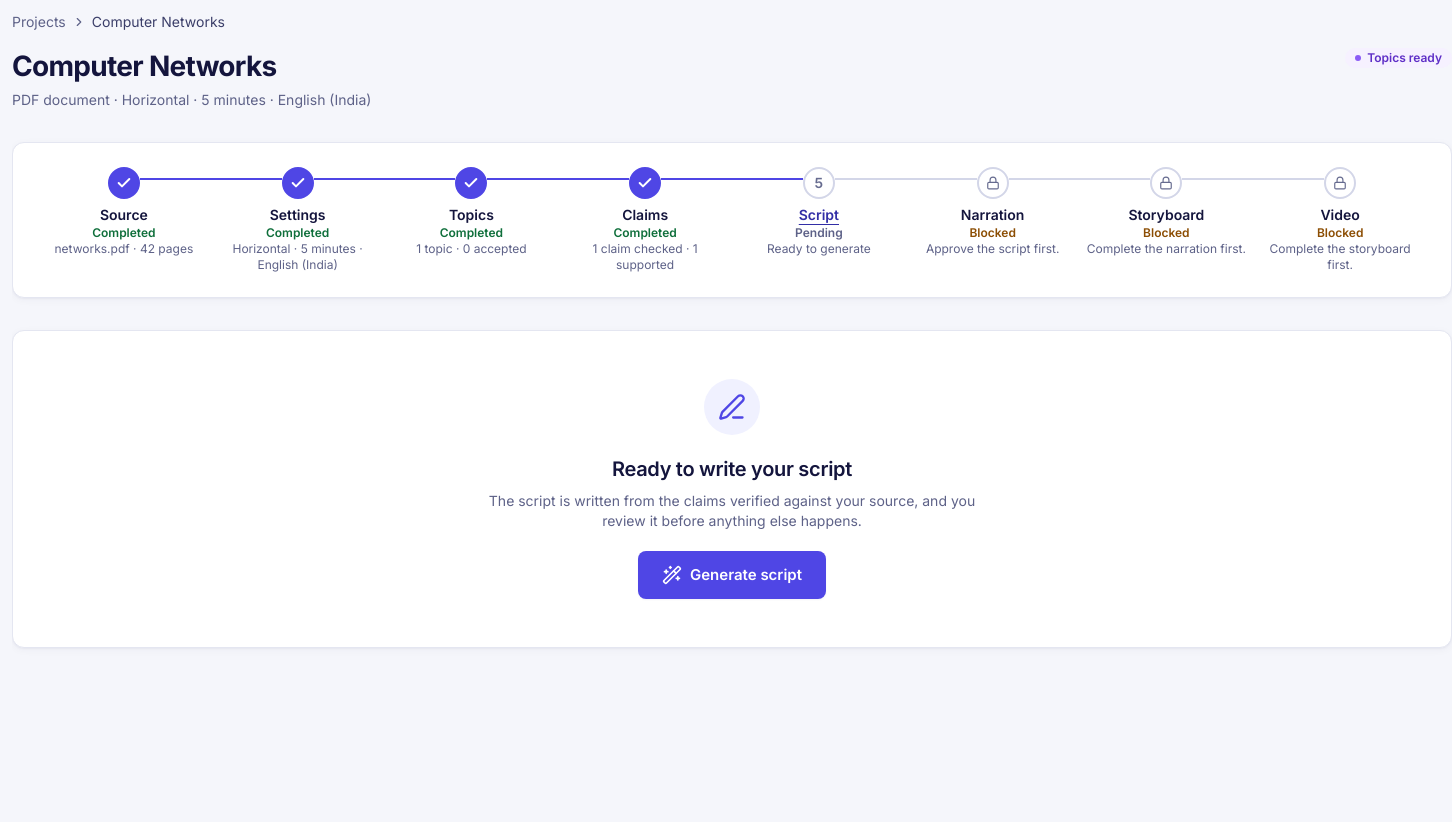
Scenario: Script step › names the topics that have no verified claim, even when the sentence is too long to show
This screenshot has width=1452, height=822.
Click the button "Generate script" at [732, 575], box [638,551,826,599]
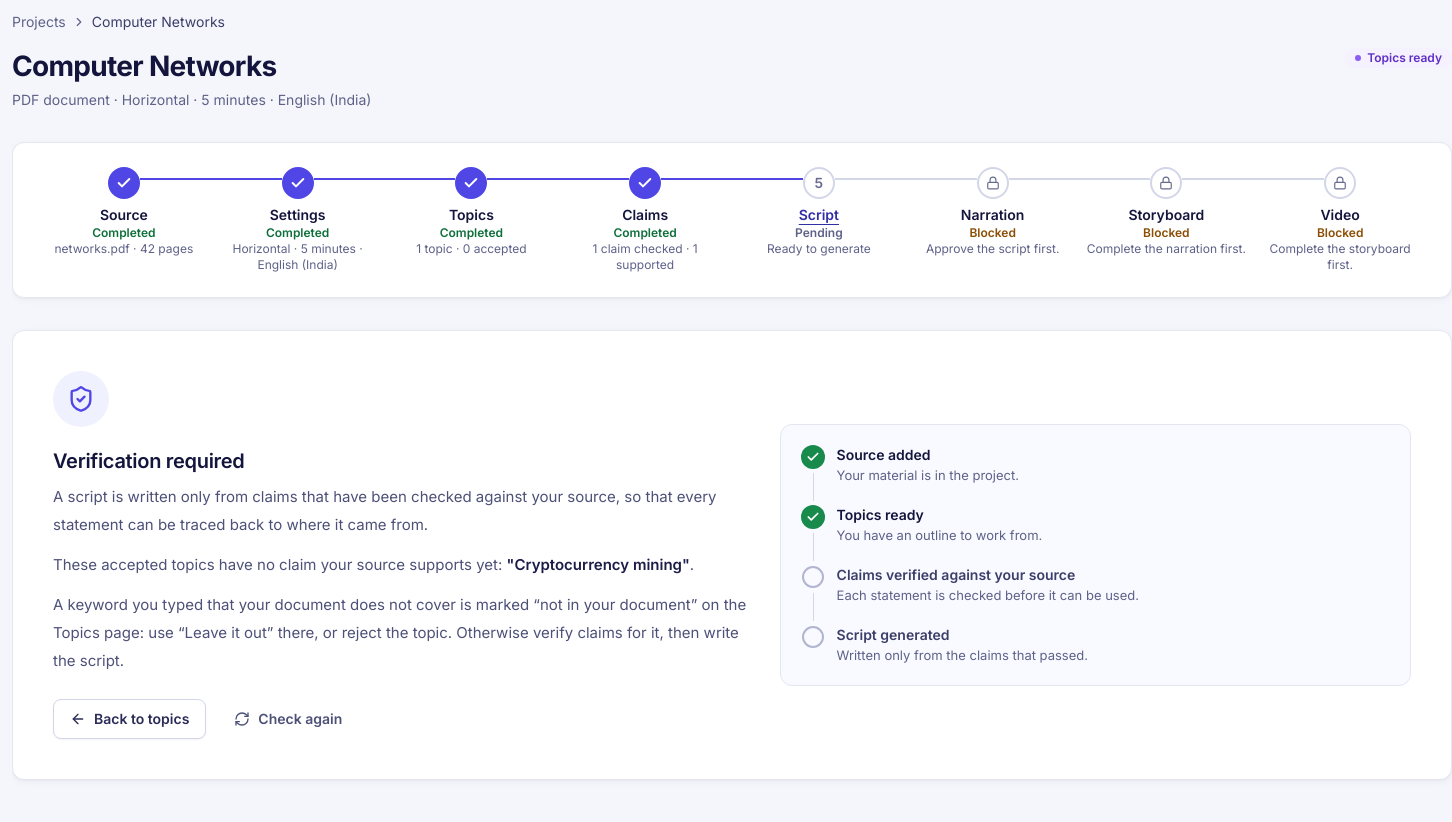
expect the heading "Verification required" is shown: met, box [53,449,244,473]
expect the text "\"Cryptocurrency mining\"" is shown: met, box [507,555,690,574]
expect the text "Leave it out" is shown: met, box [53,595,746,670]
